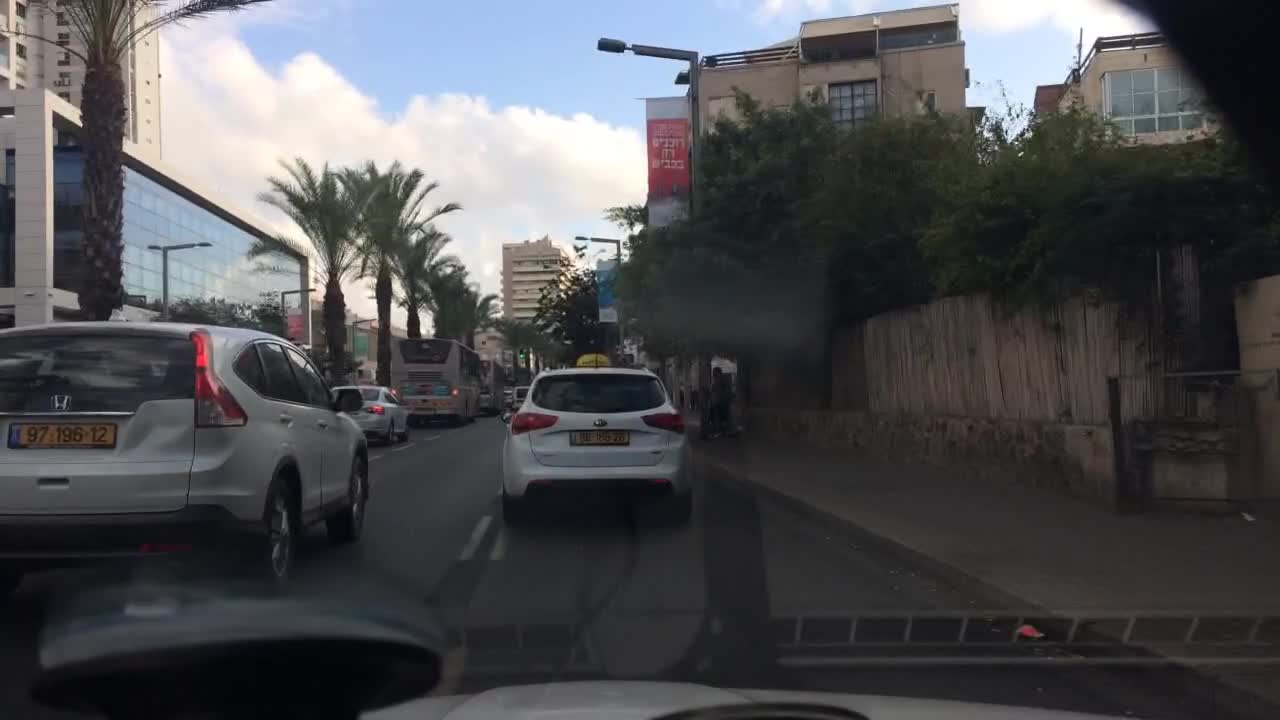bus: (391, 339, 482, 426), (479, 356, 508, 414)
car: (0, 319, 363, 597), (496, 349, 695, 527), (326, 382, 412, 447), (515, 386, 529, 405), (503, 388, 513, 403)
person: (706, 362, 734, 437)
traffic sign: (288, 305, 305, 337)
